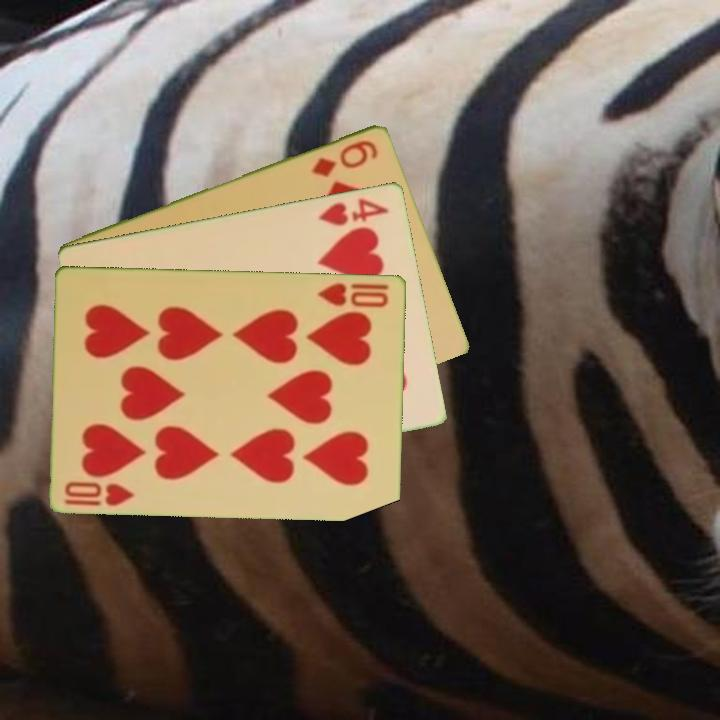10h: (315, 279, 392, 310), (61, 478, 138, 509)
4h: (315, 194, 392, 229)
6d: (308, 136, 381, 180)
